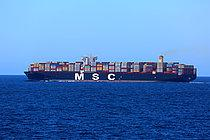Ship: (24, 54, 200, 85)
